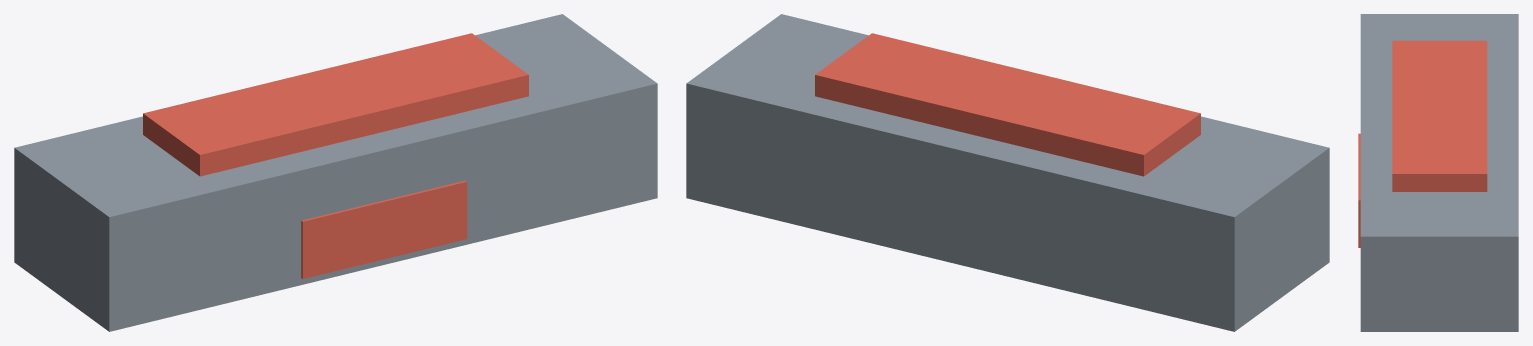
The model's file is SU_SvyatogorCruiser_LOD0.glb.
3 renders of one model, left to right at view 1: azimuth 30°, elevation 25°; view 2: azimuth 150°, elevation 25°; view 3: azimuth 270°, elevation 25°, orthographic. The views are drawn at different scales.
Visible parts, largest first — view 1: EntranceGate; view 2: EntranceGate; view 3: EntranceGate.
Boxes of the visible parts, x1,y1,x2,y2 form: EntranceGate: (14,14,657,331); EntranceGate: (686,14,1329,331); EntranceGate: (1358,14,1518,331).
Bounding box in the file's own units: 2000 × 475 × 610.
